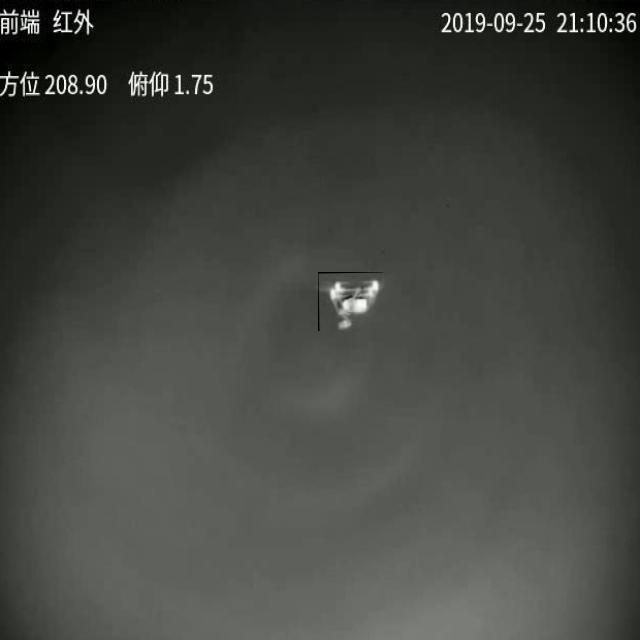drone: (318, 272, 383, 331)
